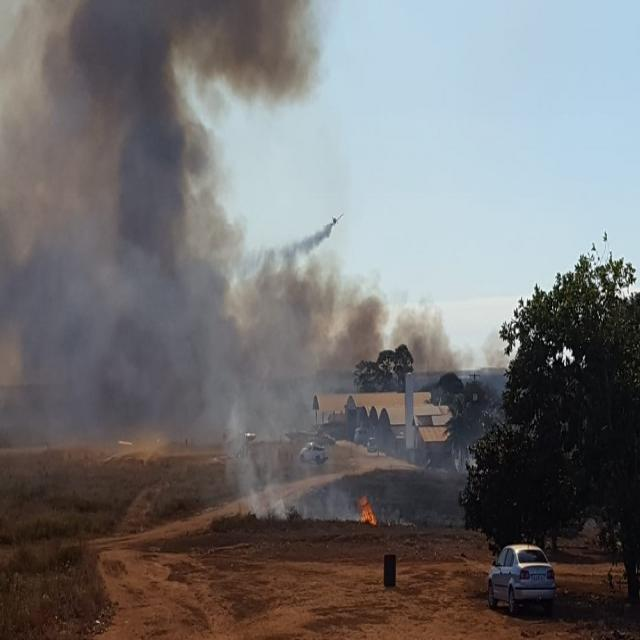Fire: (358, 490, 376, 528)
